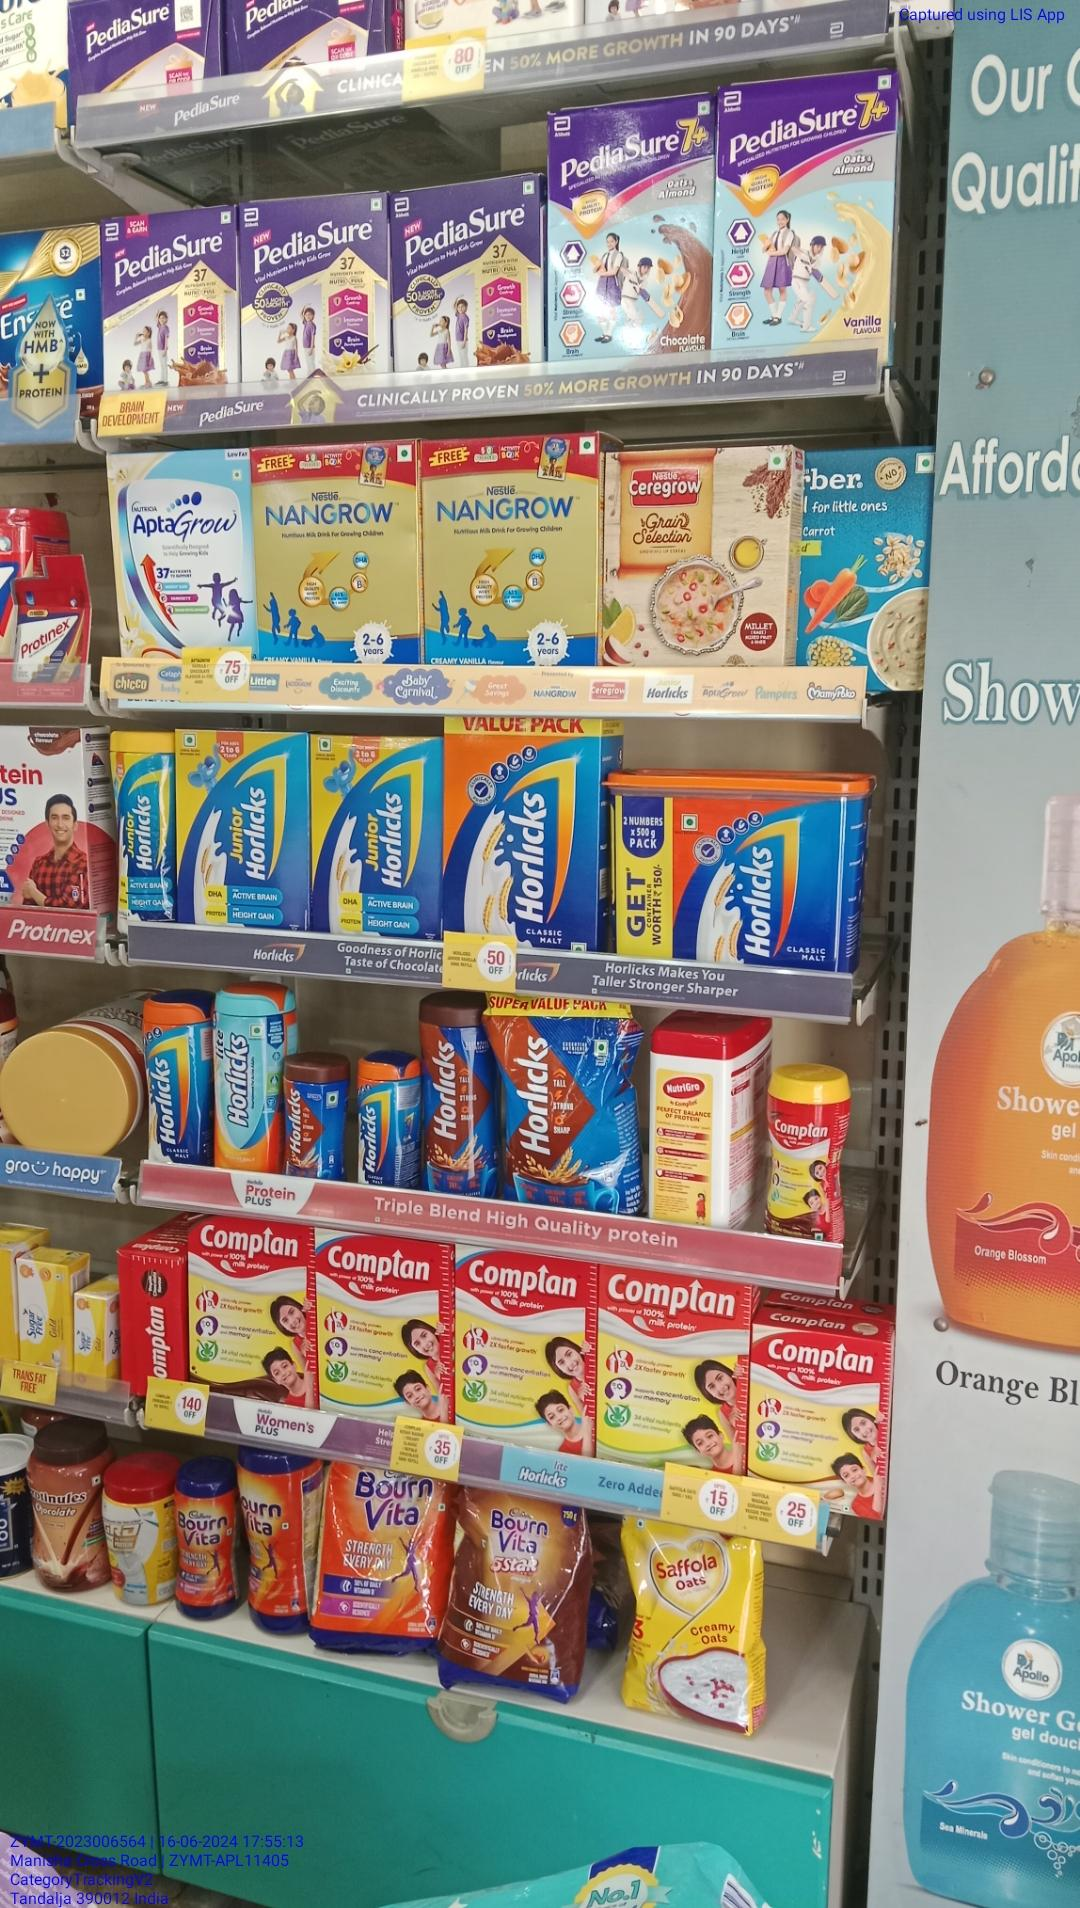COMPLAN_CHOCOLATE_500_GMS_JAR: (767, 1063, 831, 1236)
COMPLAN_KESAR_BADAM_200_GMS_PACK: (748, 1325, 887, 1508)
COMPLAN_PISTA_BADAM_500_GMS_PACK: (596, 1270, 746, 1469)
HORLICKS_JUNIOR_VANILLA_500_GM_JAR: (111, 727, 173, 926)
HORLICKS_LITE_REGULAR_MALT_500_GM_JAR: (214, 984, 282, 1172)
HORLICK_MALT_1_KG_CONTAINER: (608, 771, 865, 964)
PEDIASURE_CHOCOLATE_500_G_PACK: (391, 185, 537, 368), (102, 208, 239, 384)
PEDIASURE_VANILLA_500_G_PACK: (246, 198, 385, 371)
